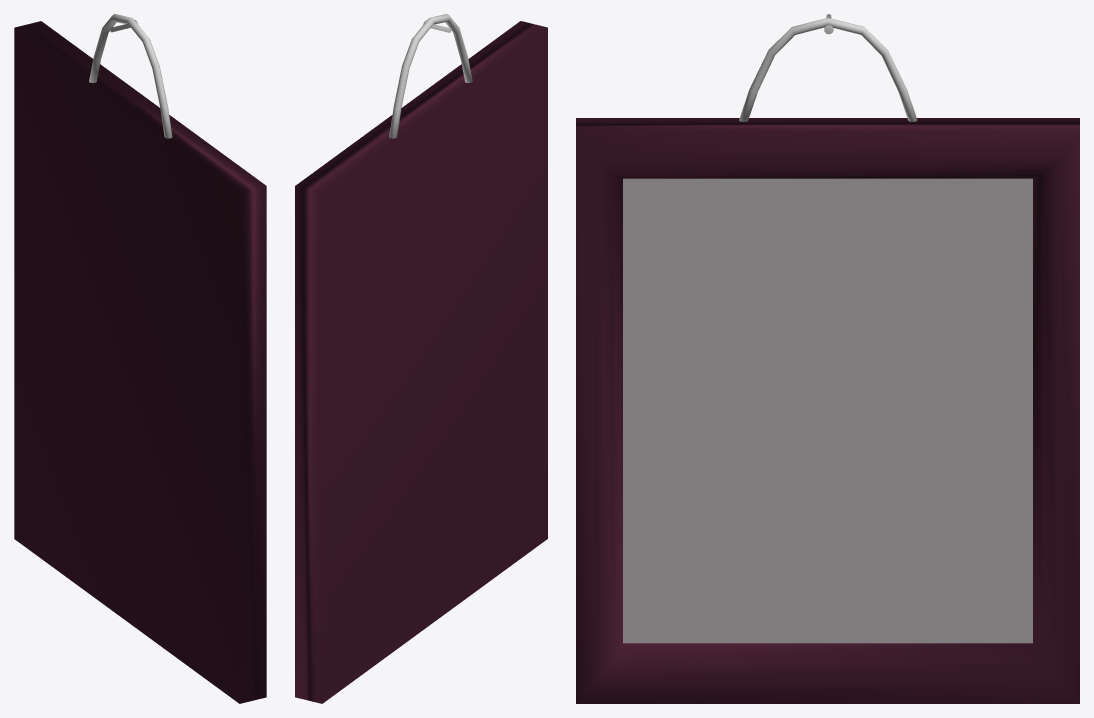
File: PhotoFrame.fbx
3 views of the same model, side by side, from view 1: azimuth 30°, elevation 25°; view 2: azimuth 150°, elevation 25°; view 3: azimuth 270°, elevation 25° (orthographic). The views are drawn at different scales.
Visible parts, largest first — view 1: Cube, Cylinder; view 2: Cube, Cylinder; view 3: Picture, Cube, Cylinder.
Boxes of the visible parts, x1,y1,x2,y2 form: Cube: (14,21,266,703); Cylinder: (89,14,172,138); Cube: (295,21,547,703); Cylinder: (389,14,472,138); Picture: (623,178,1032,643); Cube: (576,118,1079,703); Cylinder: (739,18,917,121).
Size of the model in its own units: 0.3178 by 3.87 by 2.63.
